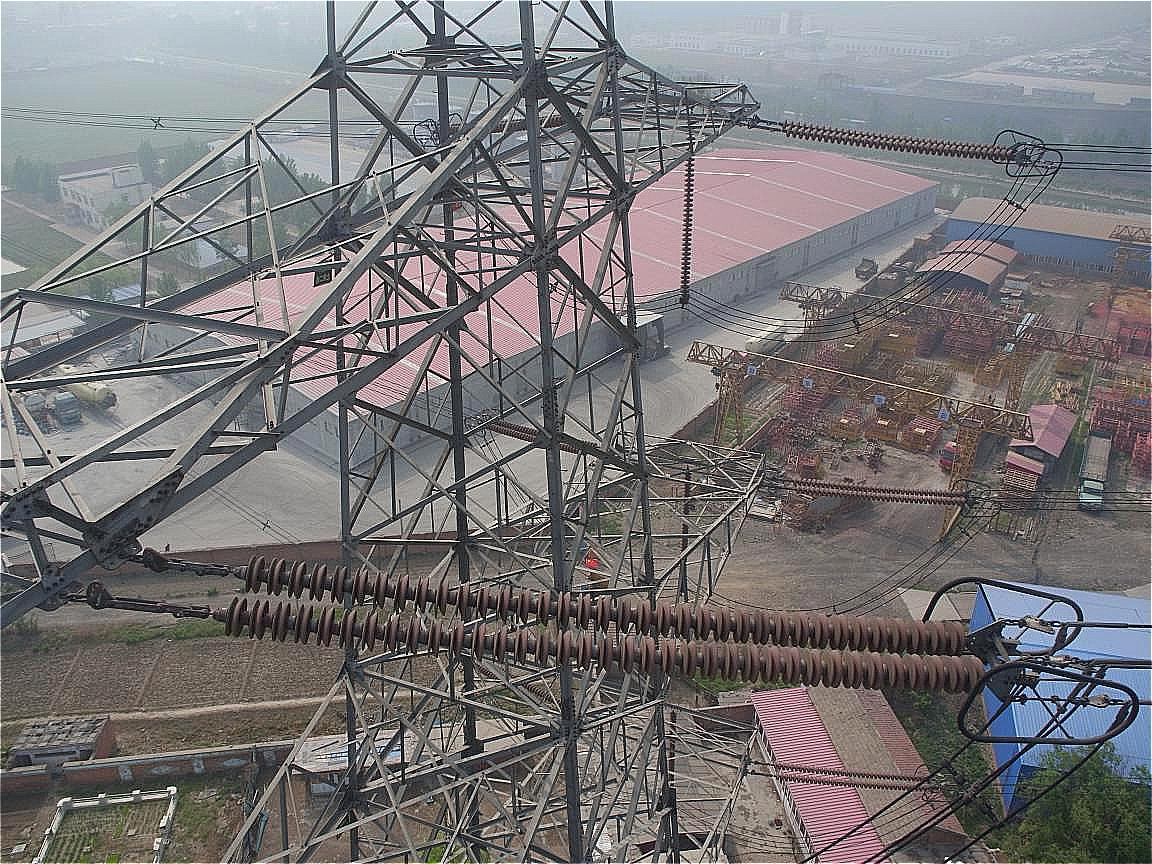insultor1: (781, 119, 1017, 164), (792, 476, 975, 507)
insultor2: (225, 552, 988, 694)
